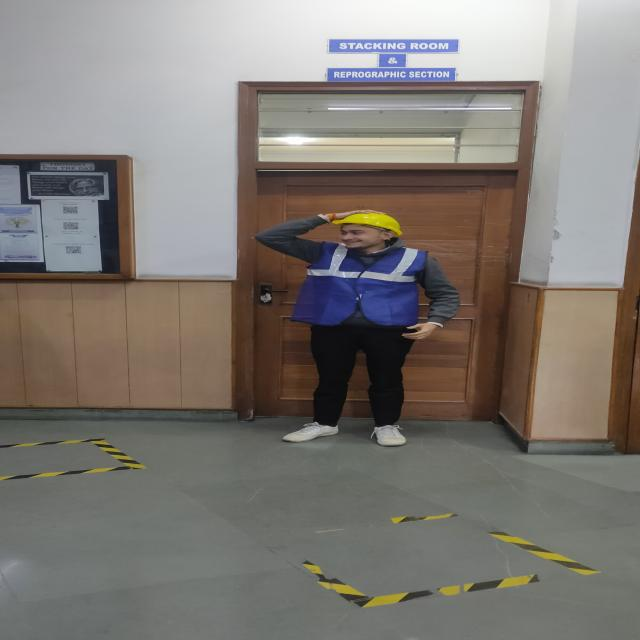safe: (257, 211, 461, 445)
